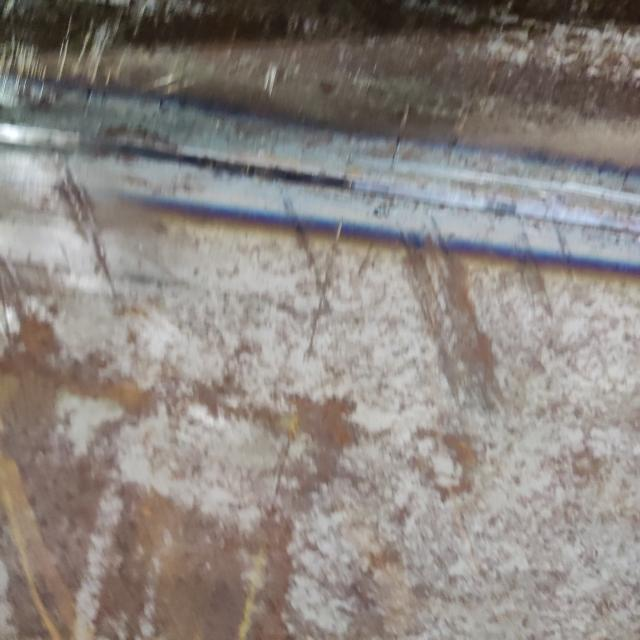seam: (0, 52, 640, 289)
